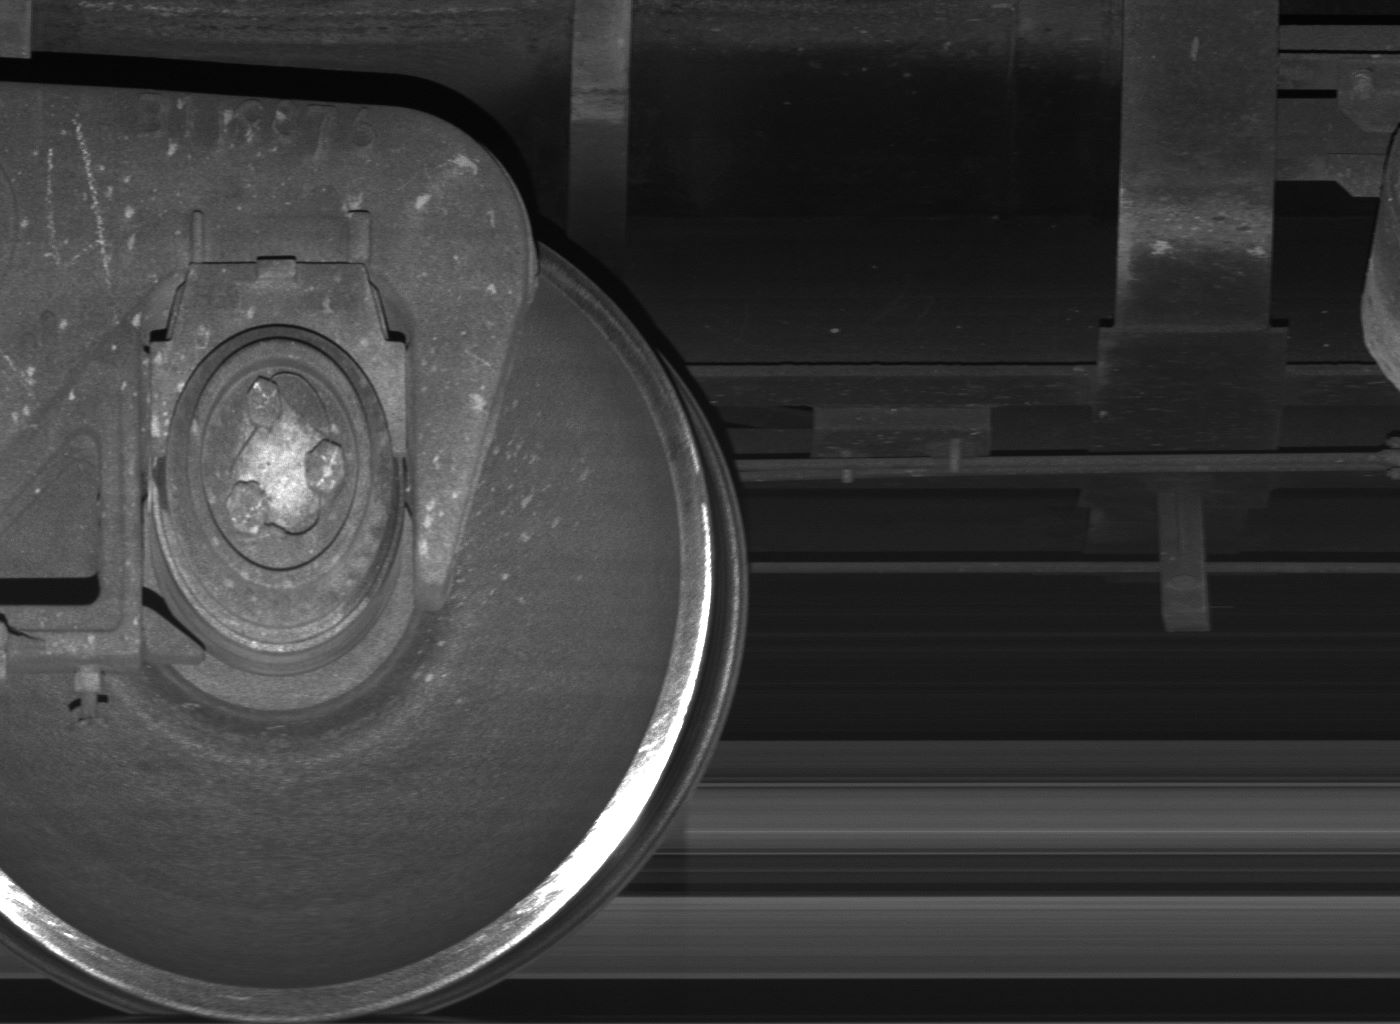normal: (1161, 499, 1214, 632)
